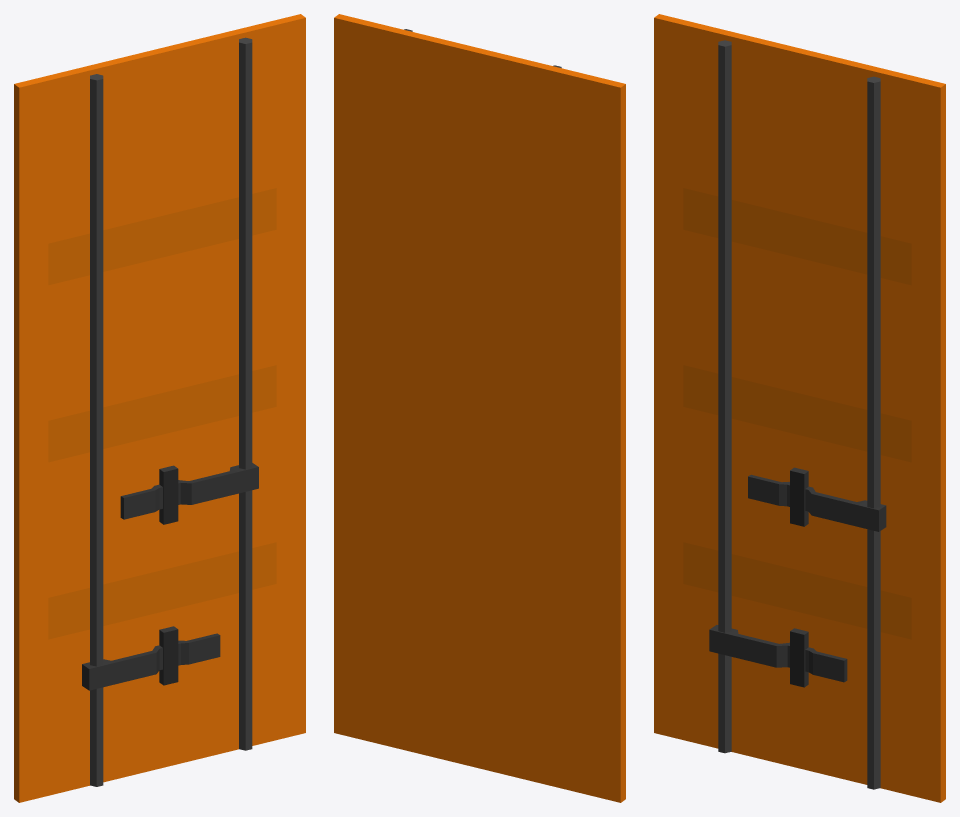
File: SM_IndustrialProps_ShippingContainer_02_Door_01.fbx
The picture shows the model from 3 angles, left to right: view 1: azimuth 30°, elevation 25°; view 2: azimuth 150°, elevation 25°; view 3: azimuth 330°, elevation 25°; orthographic projection.
Parts seen in each view (by area): view 1: SM_IndustrialProps_ShippingContainer_02_Door_01; view 2: SM_IndustrialProps_ShippingContainer_02_Door_01; view 3: SM_IndustrialProps_ShippingContainer_02_Door_01.
Boxes of the visible parts, <box> form: SM_IndustrialProps_ShippingContainer_02_Door_01: <box>14,14,305,802</box>; SM_IndustrialProps_ShippingContainer_02_Door_01: <box>334,14,625,802</box>; SM_IndustrialProps_ShippingContainer_02_Door_01: <box>654,14,945,802</box>.
Bounding box in the file's own units: 1.09 × 2.6 × 0.0825.
